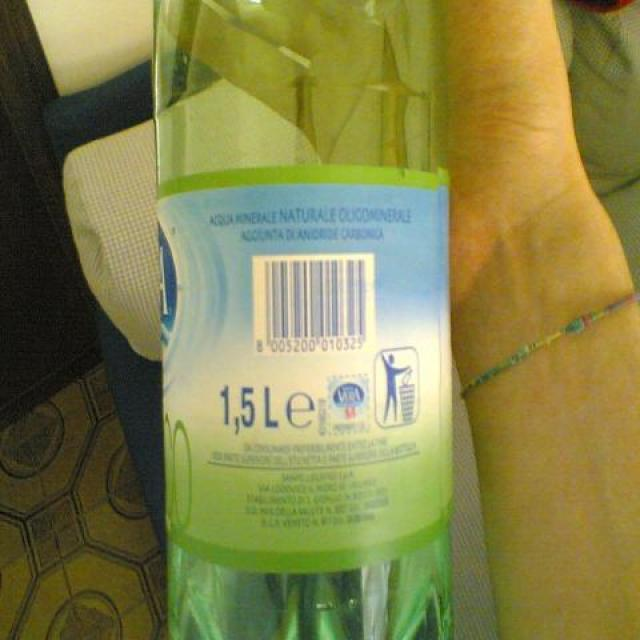Barcode: (250, 252, 378, 356)
